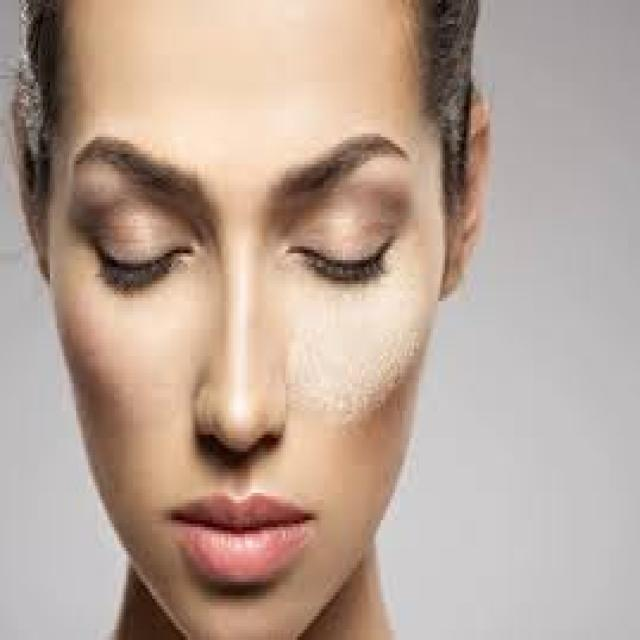Dry-Skin: (328, 339, 376, 424), (91, 373, 126, 447), (294, 323, 332, 387), (390, 362, 412, 406), (390, 320, 424, 339)
